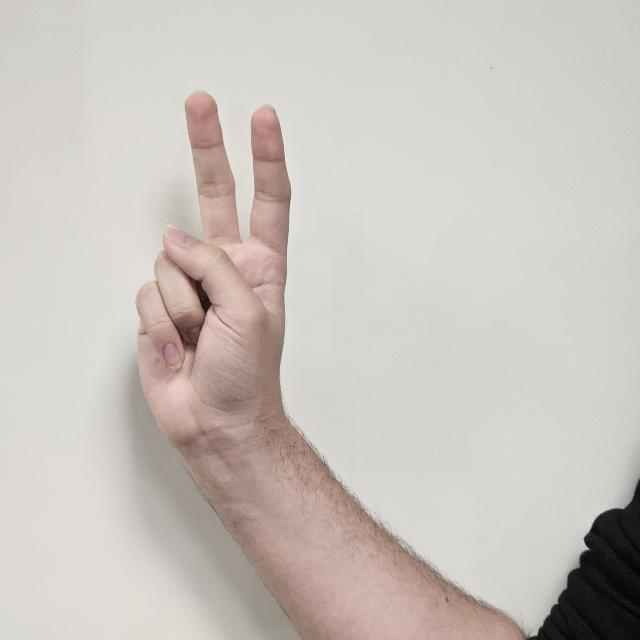Triangulo: (132, 90, 320, 477)
